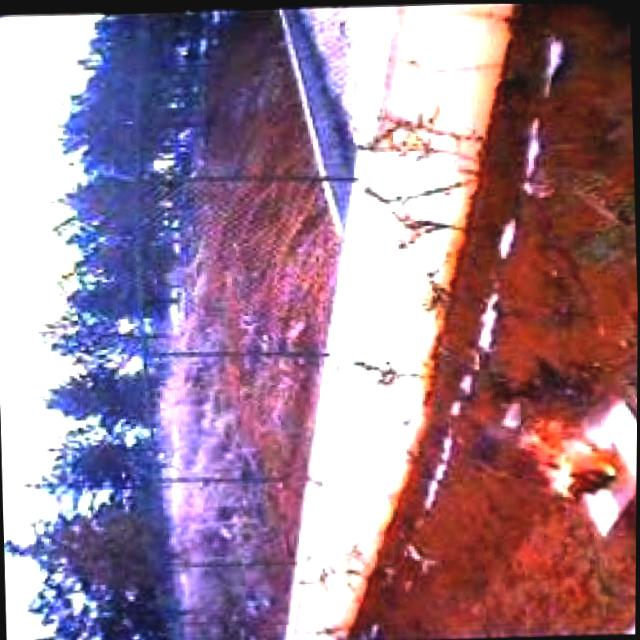Fire: (509, 408, 628, 504)
